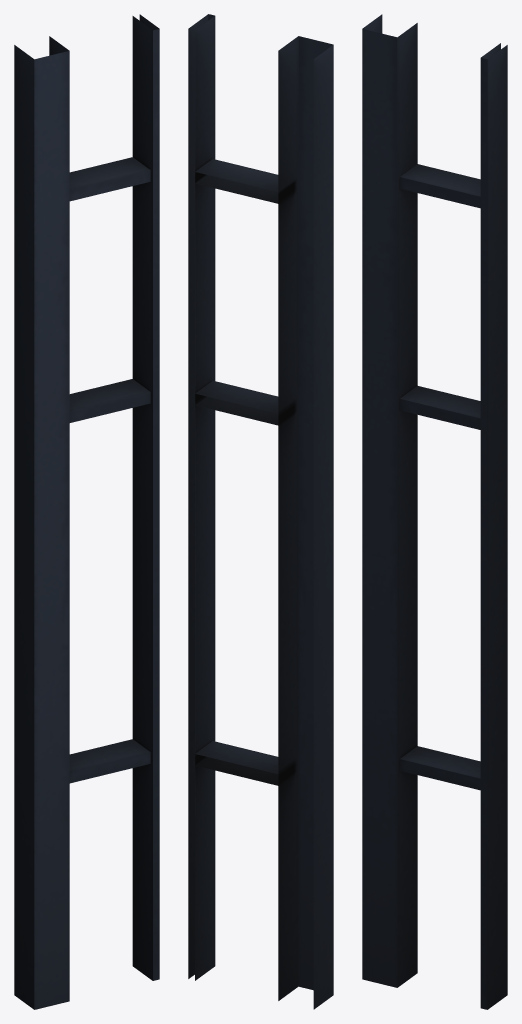
Rendered from Steel_Ladder.fbx.
3 views of the same model, side by side, from view 1: azimuth 30°, elevation 25°; view 2: azimuth 150°, elevation 25°; view 3: azimuth 330°, elevation 25° (orthographic).
Parts seen in each view (by area): view 1: Steel_Ladder; view 2: Steel_Ladder; view 3: Steel_Ladder.
Boxes of the visible parts, x1=… form: Steel_Ladder: x1=14, y1=14, x2=159, y2=1009; Steel_Ladder: x1=188, y1=14, x2=333, y2=1009; Steel_Ladder: x1=362, y1=14, x2=507, y2=1009.
Size of the model in its own units: 85.01 by 616 by 23.75.
